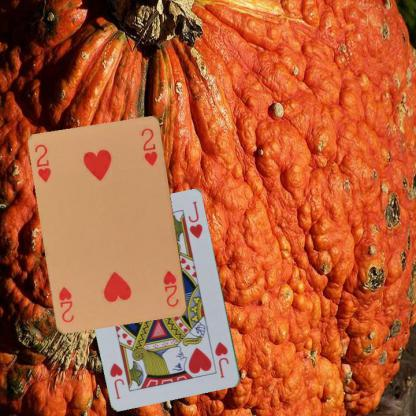2h: (32, 142, 52, 184), (161, 268, 180, 309)
Jh: (212, 340, 231, 380)
